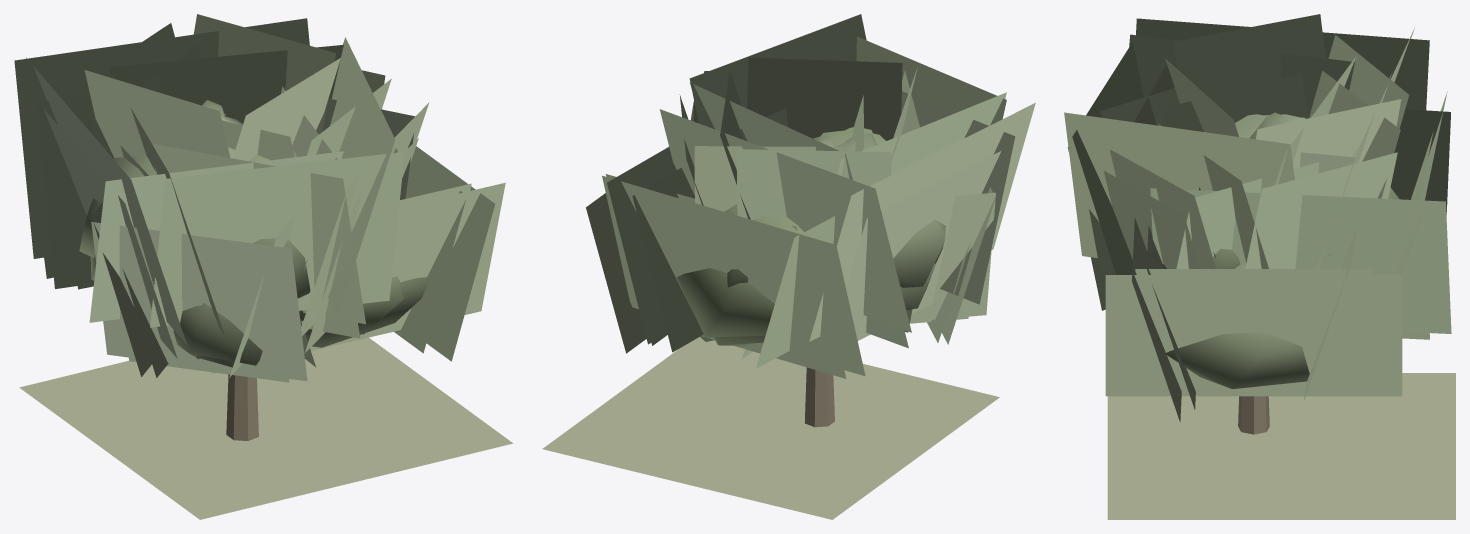
The picture shows the model from 3 angles, left to right: view 1: azimuth 30°, elevation 25°; view 2: azimuth 150°, elevation 25°; view 3: azimuth 270°, elevation 25°; orthographic projection. The views are drawn at different scales.
Visible parts, largest first — view 1: Near, Mid, Far; view 2: Near, Mid, Far; view 3: Near, Mid.
Boxes of the visible parts, x1,y1,x2,y2 form: Near: (19,14,513,519); Mid: (14,18,505,381); Far: (203,276,405,334); Near: (542,14,1015,519); Mid: (586,71,1035,376); Far: (724,204,803,287); Near: (1064,14,1455,519); Mid: (1068,18,1451,422).
Size of the model in its own units: 1.19 by 1.13 by 1.13.
